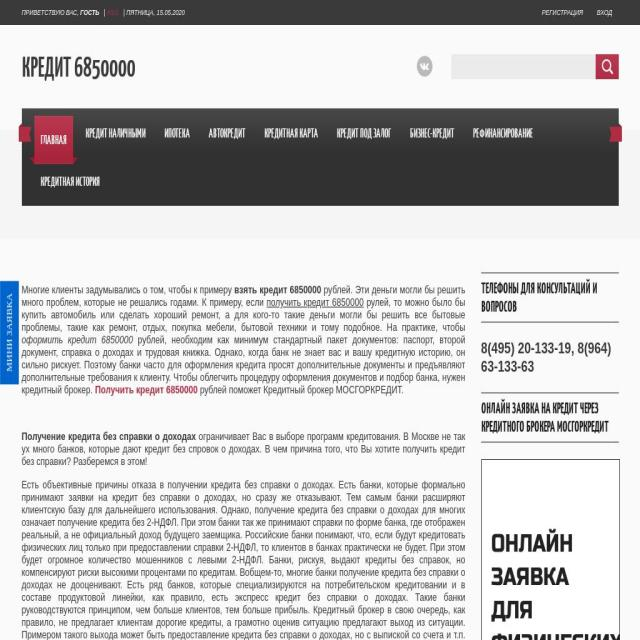button: (21, 50, 136, 84), (466, 109, 540, 158), (79, 109, 152, 158), (34, 157, 106, 206), (330, 109, 398, 158), (258, 109, 324, 158), (403, 109, 461, 158), (202, 109, 252, 158), (34, 109, 73, 158), (158, 109, 196, 158), (536, 0, 590, 25), (590, 0, 618, 25)
field: (451, 54, 595, 79), (595, 54, 619, 79)
image: (21, 123, 619, 142), (417, 56, 432, 76), (609, 123, 622, 142)
link: (94, 383, 198, 396), (107, 8, 119, 17)
text: (21, 478, 466, 640), (21, 333, 466, 396), (21, 430, 466, 468), (21, 296, 466, 333), (21, 284, 466, 308), (481, 399, 608, 436), (481, 339, 611, 375), (480, 279, 598, 316), (466, 109, 540, 158), (79, 109, 152, 158), (34, 157, 106, 206), (330, 109, 398, 158), (258, 109, 324, 158), (403, 109, 461, 158), (22, 283, 235, 296), (198, 383, 404, 396), (202, 109, 252, 158), (21, 430, 196, 442), (0, 280, 19, 385), (34, 116, 73, 164), (158, 109, 196, 158), (21, 333, 133, 346), (266, 296, 364, 308), (234, 283, 321, 296), (126, 8, 185, 17), (21, 8, 77, 17), (80, 8, 100, 17), (102, 8, 107, 17), (77, 8, 81, 17), (122, 8, 126, 17)
